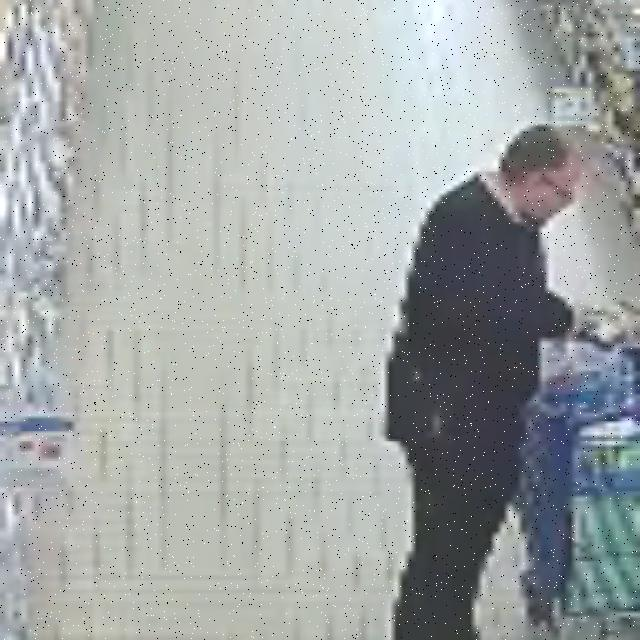article: (578, 300, 639, 352)
bags: (385, 345, 456, 439)
hands: (568, 307, 602, 342)
person: (385, 126, 580, 639)
